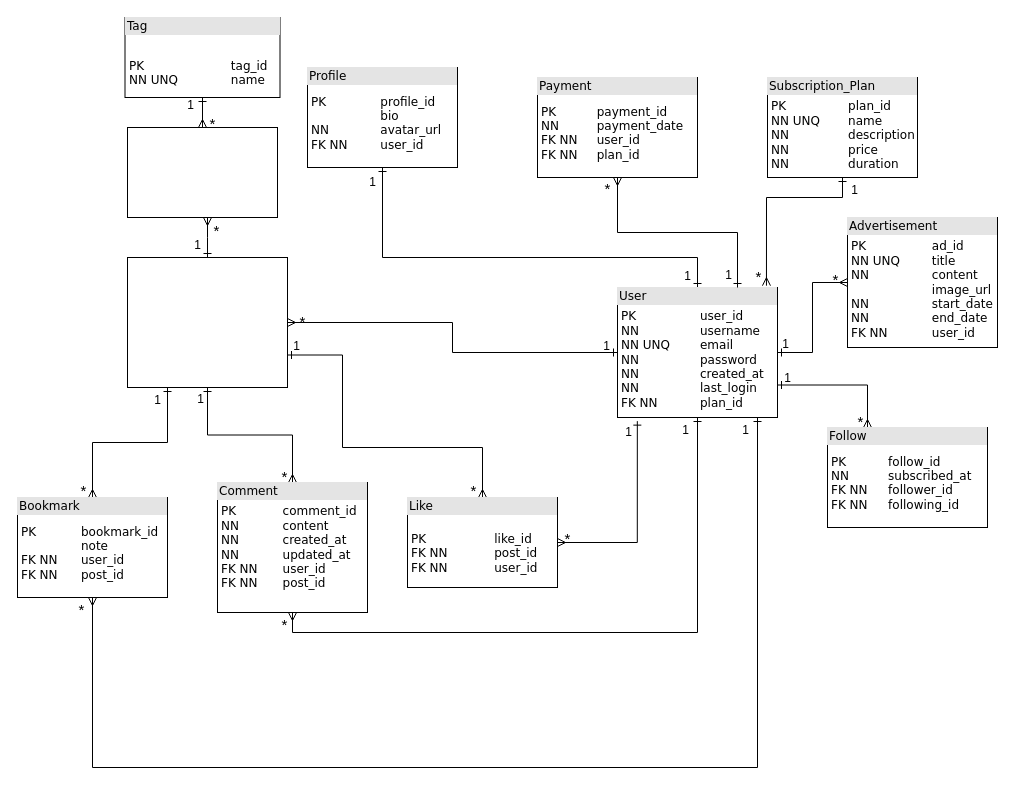
This 1015x794 diagram has some shape labels left out. Here are the shapes that lost their labels. From the top down, the box of each, then its label:
(126, 126, 278, 218): Post Tag PK FK NN FK NN post_tag_id post_id tag_id
(126, 256, 288, 388): Post PK NN NN NN NN FK NN post_id title content created_at updated_at user_id
